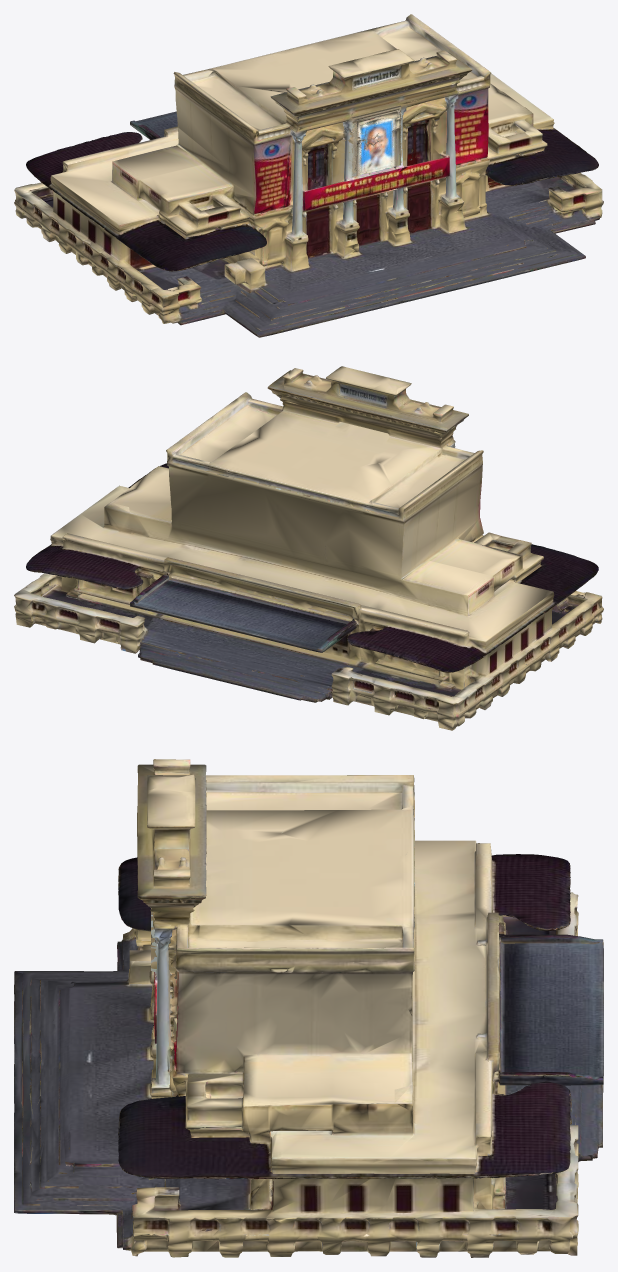
Rendered from nhahat.glb.
3 views of the same model, one above another, from view 1: azimuth 30°, elevation 25°; view 2: azimuth 150°, elevation 25°; view 3: azimuth 270°, elevation 25° (orthographic). The views are drawn at different scales.
Visible parts, largest first — view 1: Mesh_0; view 2: Mesh_0; view 3: Mesh_0.
Boxes of the visible parts, bbox=[...] form: Mesh_0: bbox=[14, 14, 603, 337]; Mesh_0: bbox=[14, 366, 603, 730]; Mesh_0: bbox=[14, 759, 603, 1257].
Size of the model in its own units: 1.91 by 0.8142 by 1.46.
Materials: 1 (1 with a texture image).
